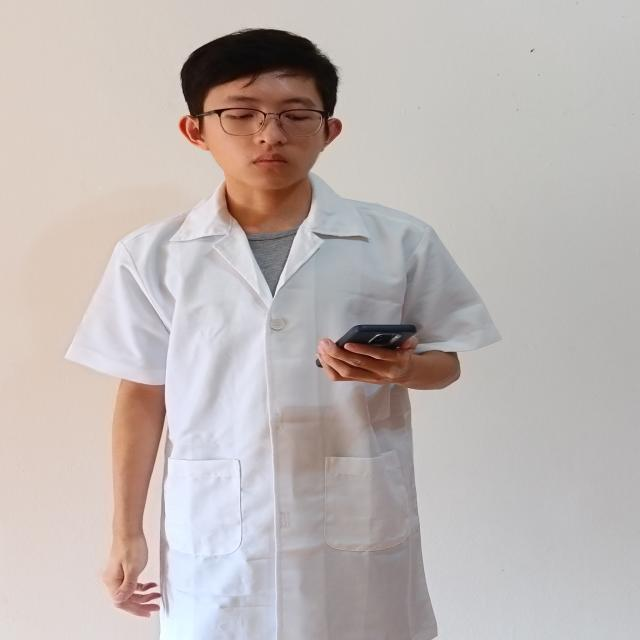person_with_labcoat: (66, 29, 500, 640)
